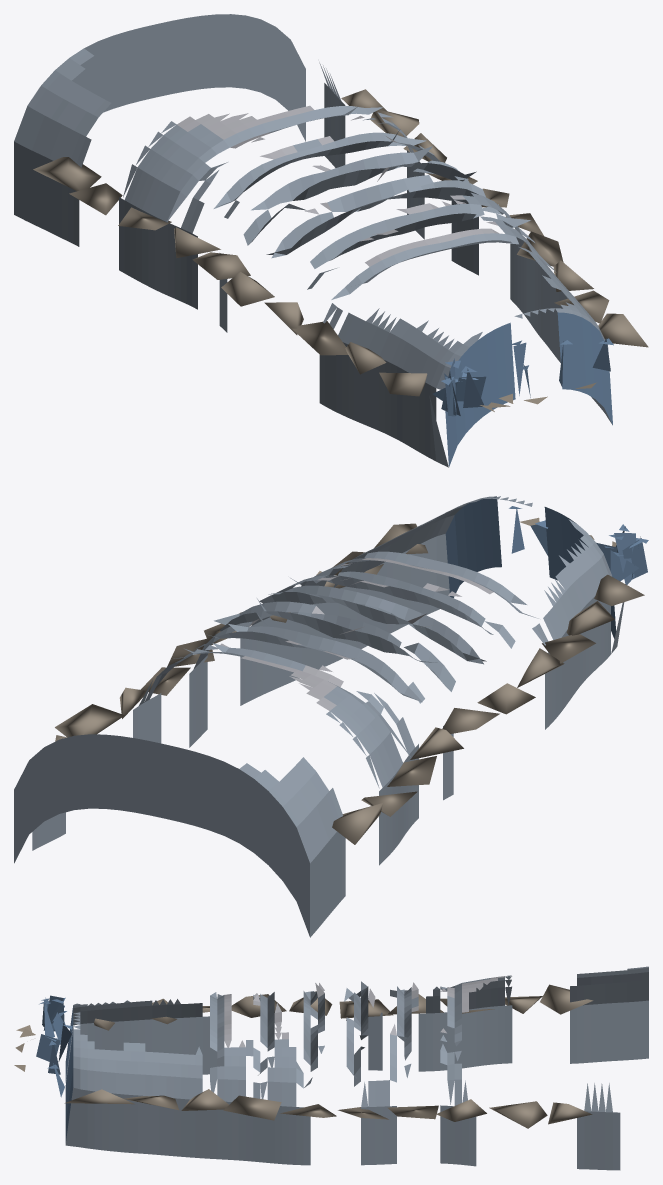
File: glacier-lod1.glb
The picture shows the model from 3 angles, top to bottom: view 1: azimuth 30°, elevation 25°; view 2: azimuth 150°, elevation 25°; view 3: azimuth 270°, elevation 25°; orthographic projection. The views are drawn at different scales.
Visible parts, largest first — view 1: glacier.001; view 2: glacier.001; view 3: glacier.001.
Boxes of the visible parts, x1=… form: glacier.001: x1=14, y1=14, x2=648, y2=467; glacier.001: x1=14, y1=496, x2=648, y2=937; glacier.001: x1=14, y1=966, x2=648, y2=1170.
Size of the model in its own units: 48.7 by 21.42 by 99.26.
